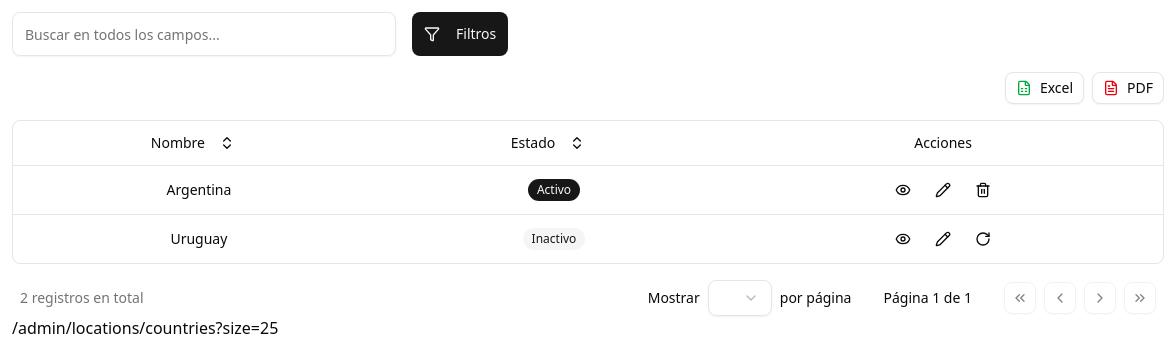
Scenario: location table toolbars › preserves URL params and clears search for countries
The image size is (1176, 356).
Type "sur" into the field with placeholder "Buscar en todos los campos..." at x=204, y=34, box left=12, top=12, right=396, bottom=56
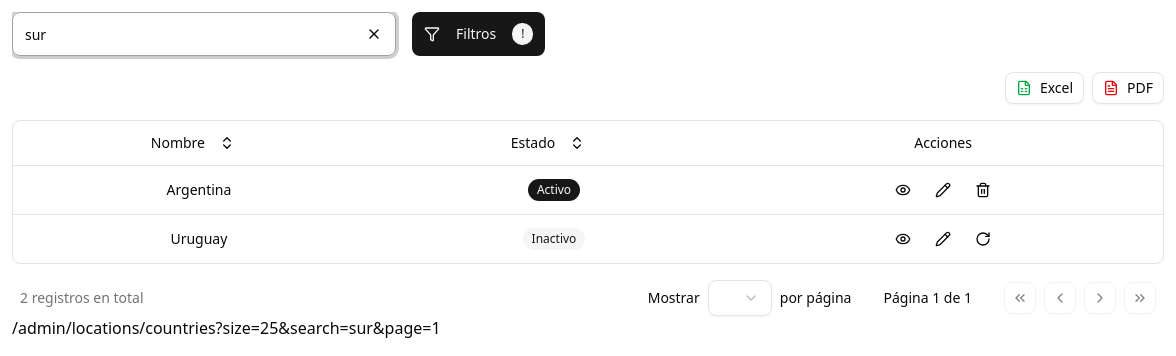
Expected: the text with test id "location-search" shows "size=25", left=216, top=317, right=441, bottom=339
Expected: the text with test id "location-search" shows "search=sur", left=216, top=317, right=441, bottom=339
Click the button named "Limpiar búsqueda" at x=374, y=34, box left=352, top=12, right=396, bottom=56
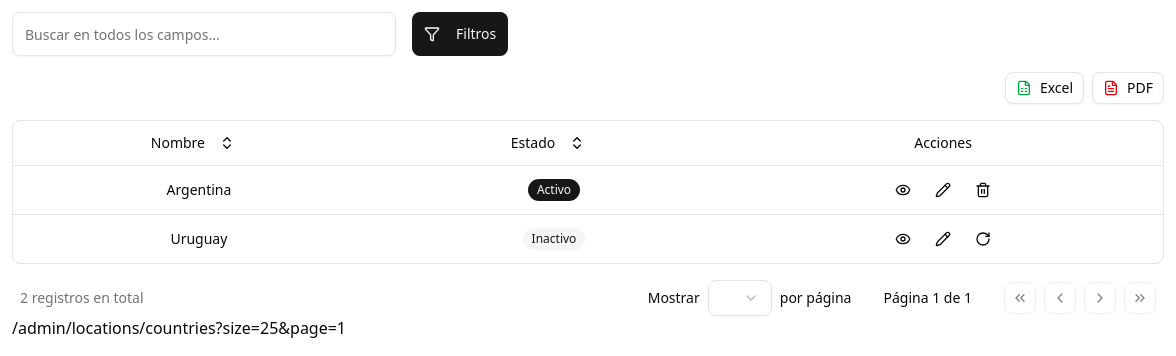
Expected: the text with test id "location-search" shows "size=25", left=216, top=317, right=346, bottom=339
Expected: the field with placeholder "Buscar en todos los campos..." is empty, left=12, top=12, right=396, bottom=56
Expected: the text with test id "location-search" no longer shows "search=", left=12, top=317, right=346, bottom=339
